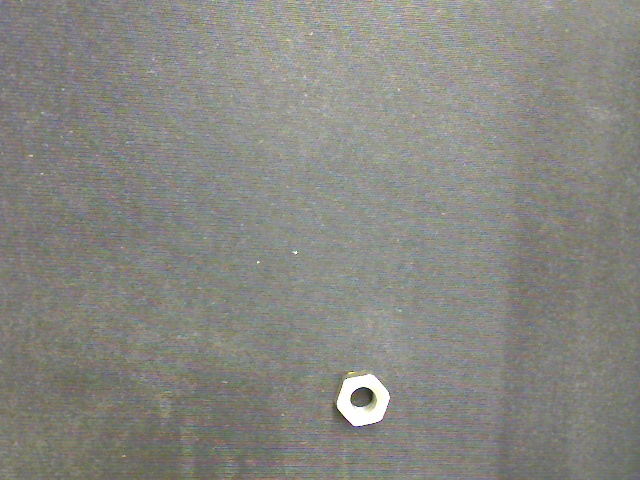Nut: (335, 371, 391, 426)
